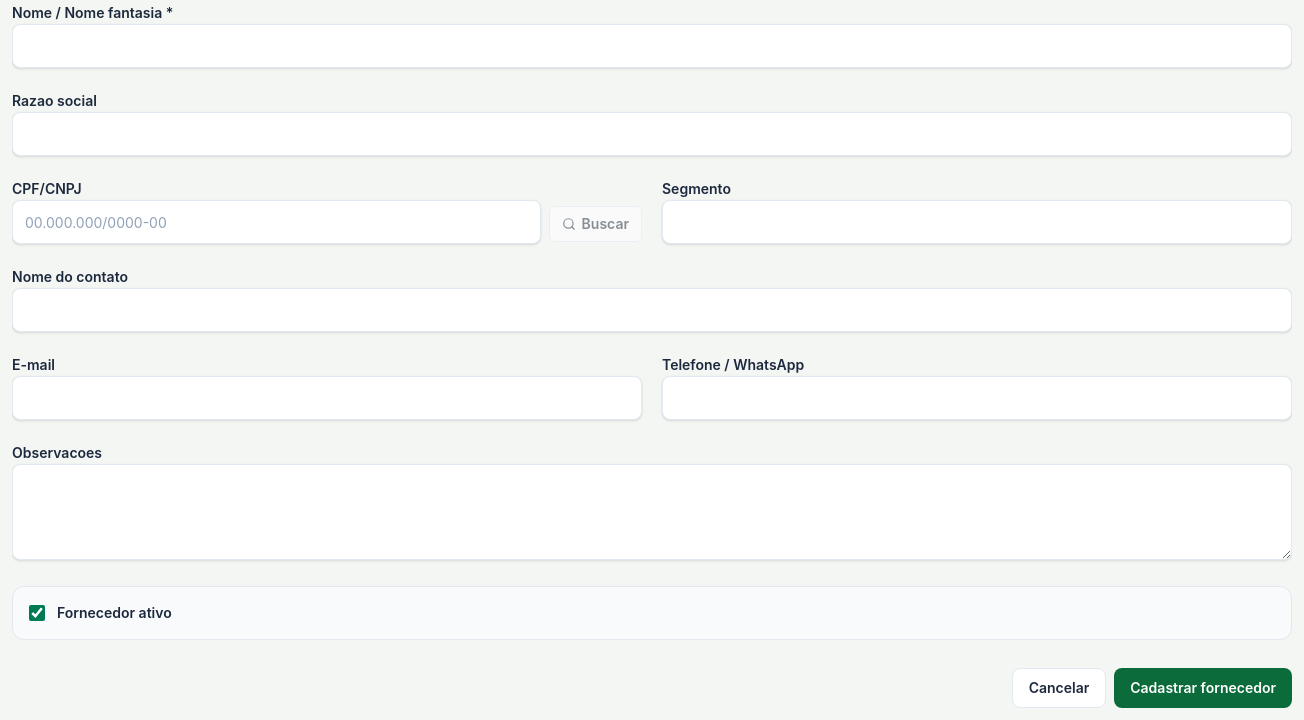
SupplierForm › valida nome obrigatorio e e-mail opcional valido
Type "email-invalido" into the field labelled "E-mail". click: (327, 398)
box: x1=12 y1=376 x2=642 y2=420
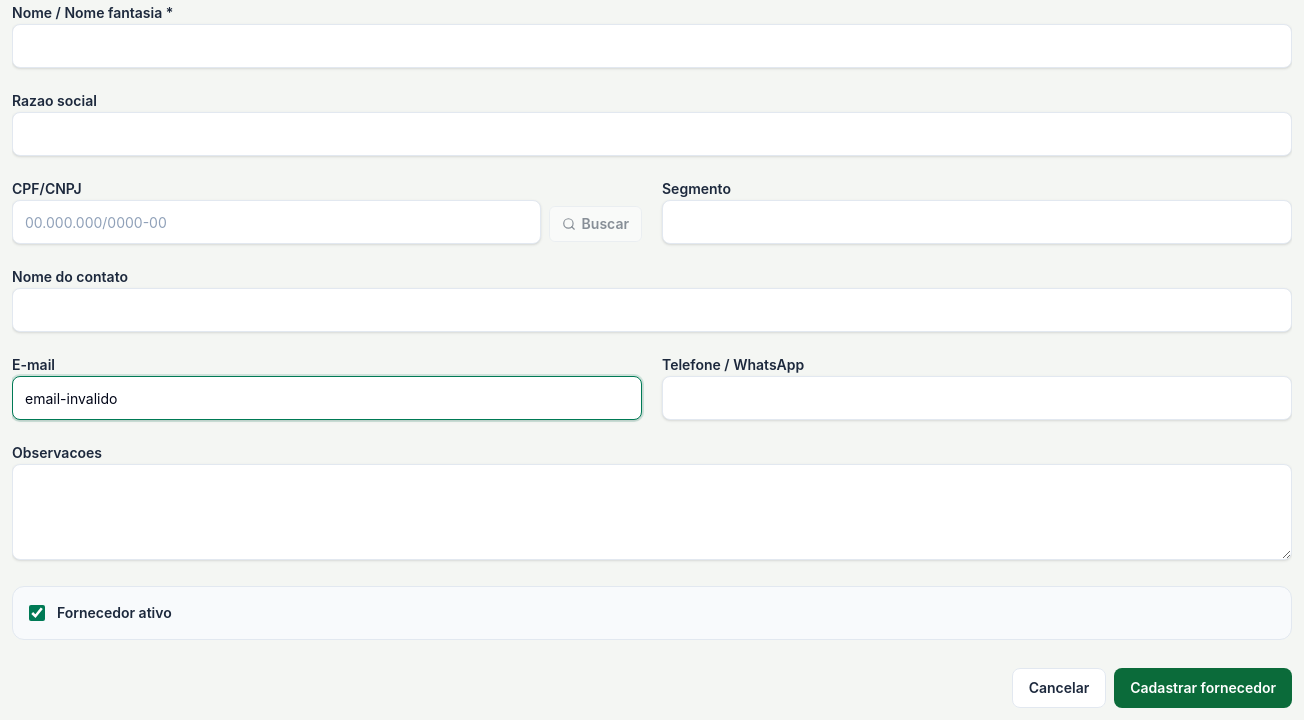
Click the button "Cadastrar fornecedor". click: click(1203, 688)
box: x1=1114 y1=668 x2=1292 y2=708
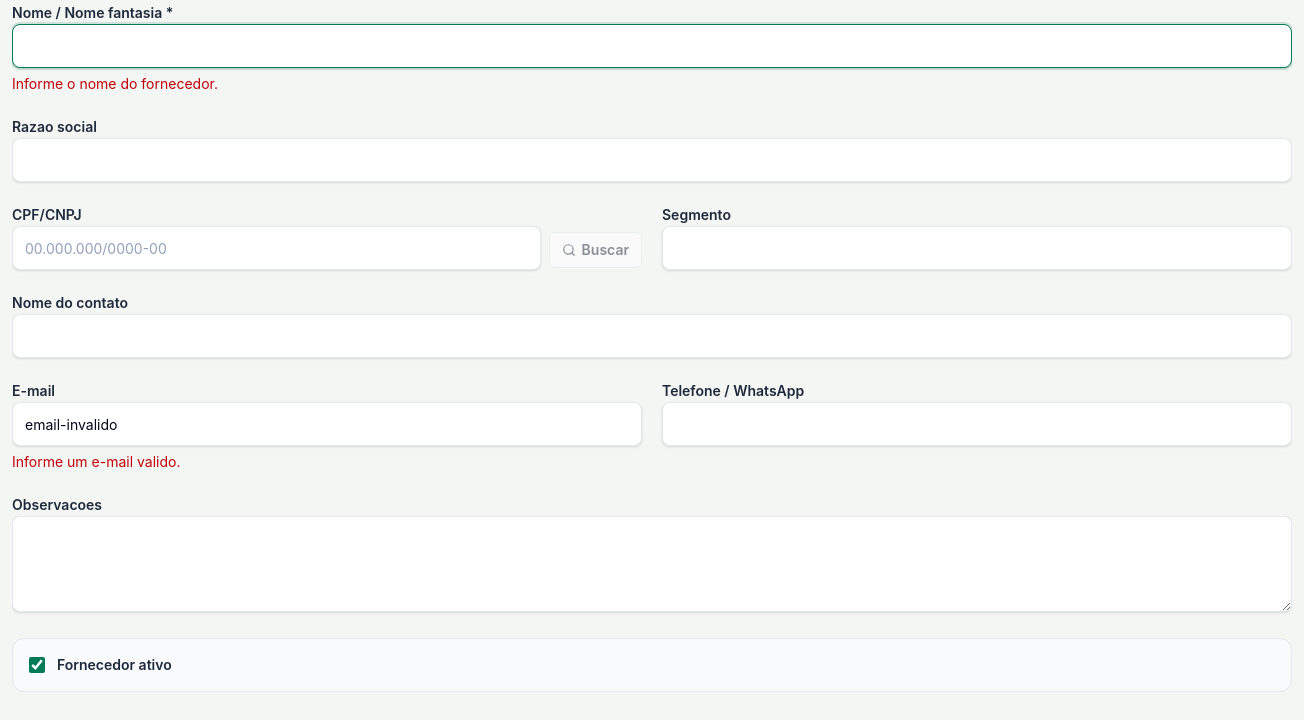
Now the text "Informe o nome do fornecedor." is shown, box x1=12 y1=75 x2=218 y2=92
Now the text "Informe um e-mail valido." is shown, box x1=12 y1=453 x2=180 y2=470
